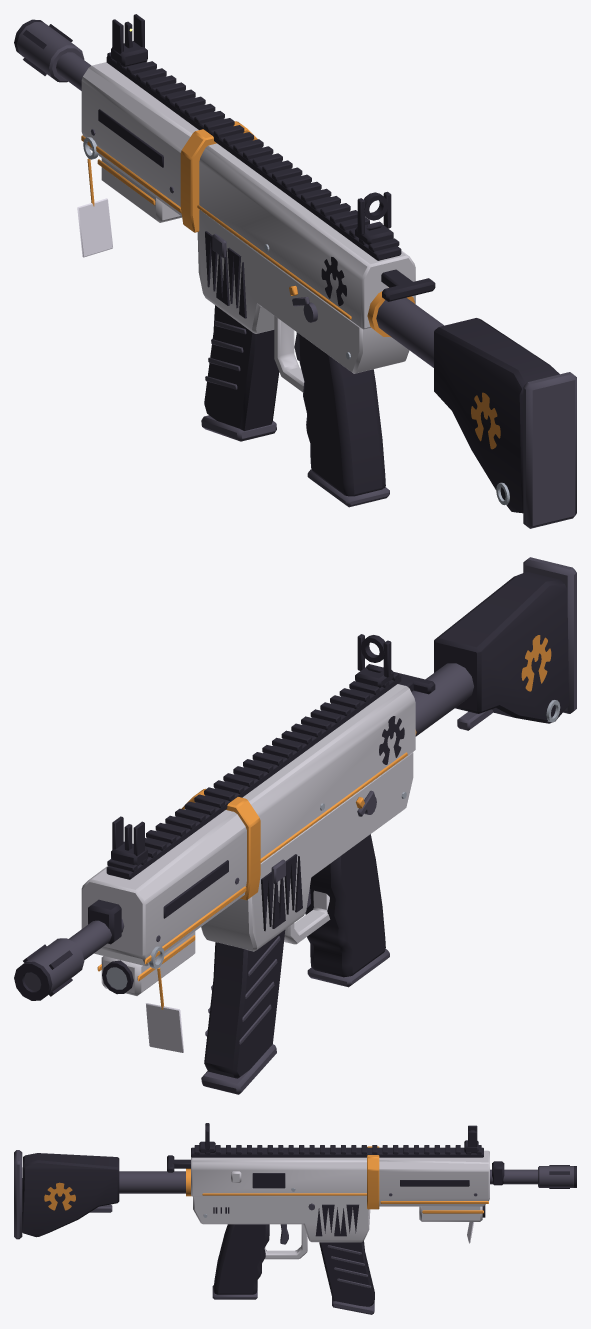
Rendered from r41_carbine.glb.
3 views of the same model, one above another, from view 1: azimuth 30°, elevation 25°; view 2: azimuth 150°, elevation 25°; view 3: azimuth 270°, elevation 25° (orthographic). The views are drawn at different scales.
Parts seen in each view (by area): view 1: r41_carbine_shell, r41_carbine_light, r41_carbine_metal, mag, r41_carbine_amber, r41_carbine_ceramic, r41_carbine_decals, charging_handle; view 2: r41_carbine_shell, r41_carbine_light, mag, r41_carbine_metal, r41_carbine_amber, r41_carbine_ceramic, r41_carbine_decals, r41_carbine_steel; view 3: r41_carbine_light, r41_carbine_shell, r41_carbine_metal, mag, r41_carbine_amber, r41_carbine_decals, charging_handle.
Part boxes in pixels (left/top/right/bottom): r41_carbine_shell: left=14, top=14, right=559, bottom=513; r41_carbine_light: left=81, top=62, right=415, bottom=392; r41_carbine_metal: left=17, top=22, right=576, bottom=528; mag: left=201, top=305, right=279, bottom=441; r41_carbine_amber: left=81, top=121, right=415, bottom=337; r41_carbine_ceramic: left=77, top=198, right=112, bottom=257; r41_carbine_decals: left=321, top=257, right=500, bottom=449; charging_handle: left=381, top=269, right=435, bottom=301; r41_carbine_shell: left=14, top=572, right=568, bottom=1000; r41_carbine_light: left=81, top=684, right=415, bottom=995; mag: left=201, top=930, right=285, bottom=1094; r41_carbine_metal: left=24, top=557, right=576, bottom=997; r41_carbine_amber: left=97, top=730, right=416, bottom=1009; r41_carbine_ceramic: left=146, top=1003, right=183, bottom=1052; r41_carbine_decals: left=379, top=635, right=551, bottom=764; r41_carbine_steel: left=106, top=700, right=560, bottom=989; r41_carbine_light: left=191, top=1150, right=489, bottom=1259; r41_carbine_shell: left=22, top=1123, right=576, bottom=1294; r41_carbine_metal: left=14, top=1150, right=573, bottom=1299; mag: left=319, top=1241, right=374, bottom=1314; r41_carbine_amber: left=186, top=1146, right=488, bottom=1213; r41_carbine_decals: left=44, top=1182, right=229, bottom=1213; charging_handle: left=167, top=1155, right=190, bottom=1172.
Bounding box in the file's own units: 0.0526 × 0.1989 × 0.55.
